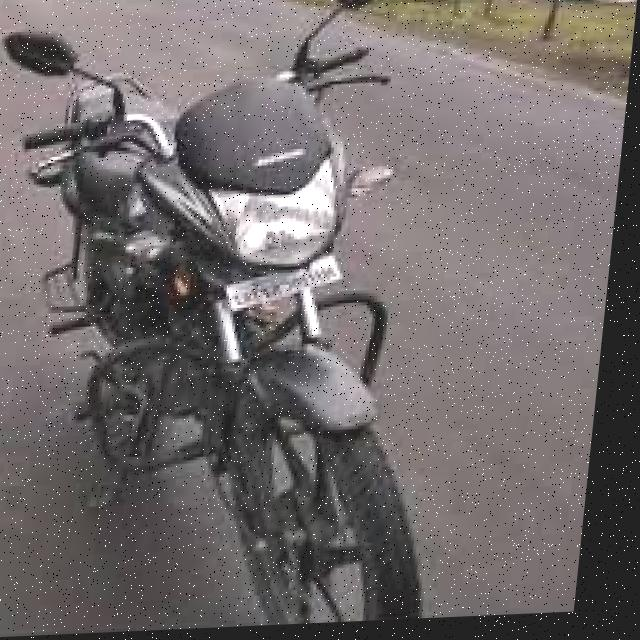bike: (1, 11, 467, 638)
